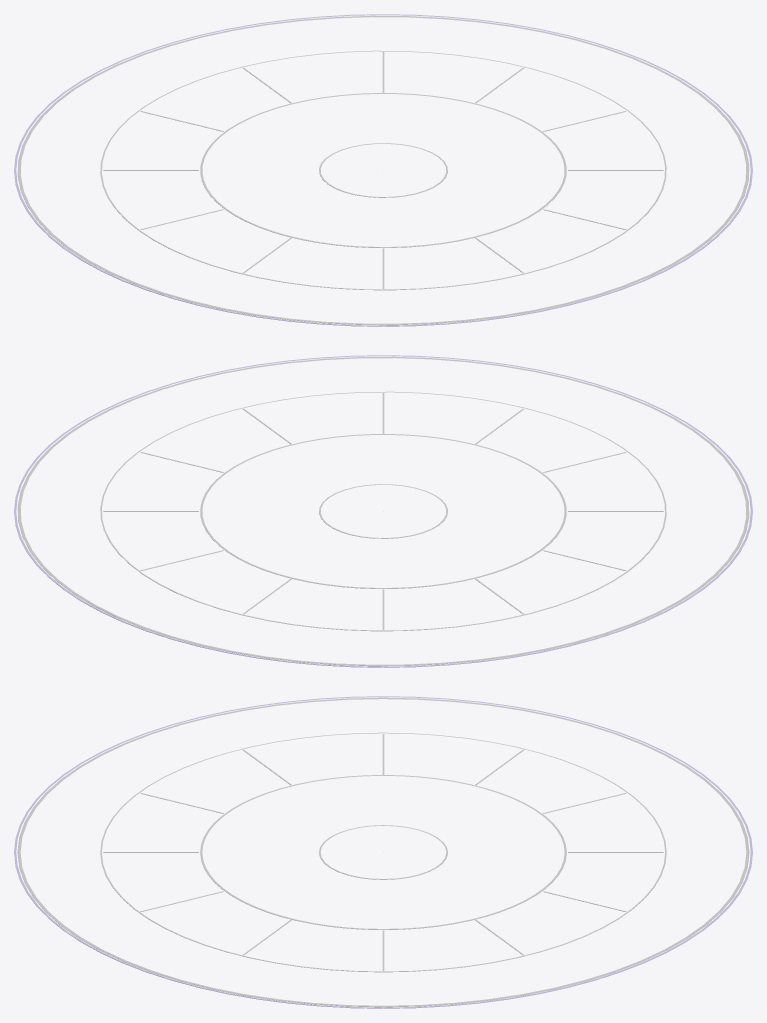
The model's file is SkyArena.glb.
3 renders of one model, top to bottom at view 1: azimuth 30°, elevation 25°; view 2: azimuth 150°, elevation 25°; view 3: azimuth 270°, elevation 25°, orthographic.
Parts seen in each view (by area): view 1: Body, Glow; view 2: Body, Glow; view 3: Body, Glow.
Boxes of the visible parts, <box> form: Body: <box>17,15,749,325</box>; Glow: <box>14,14,752,326</box>; Body: <box>17,356,749,666</box>; Glow: <box>14,355,752,667</box>; Body: <box>17,697,749,1007</box>; Glow: <box>14,696,752,1008</box>.
Bounding box in the file's own units: 162 × 0.07 × 162.
